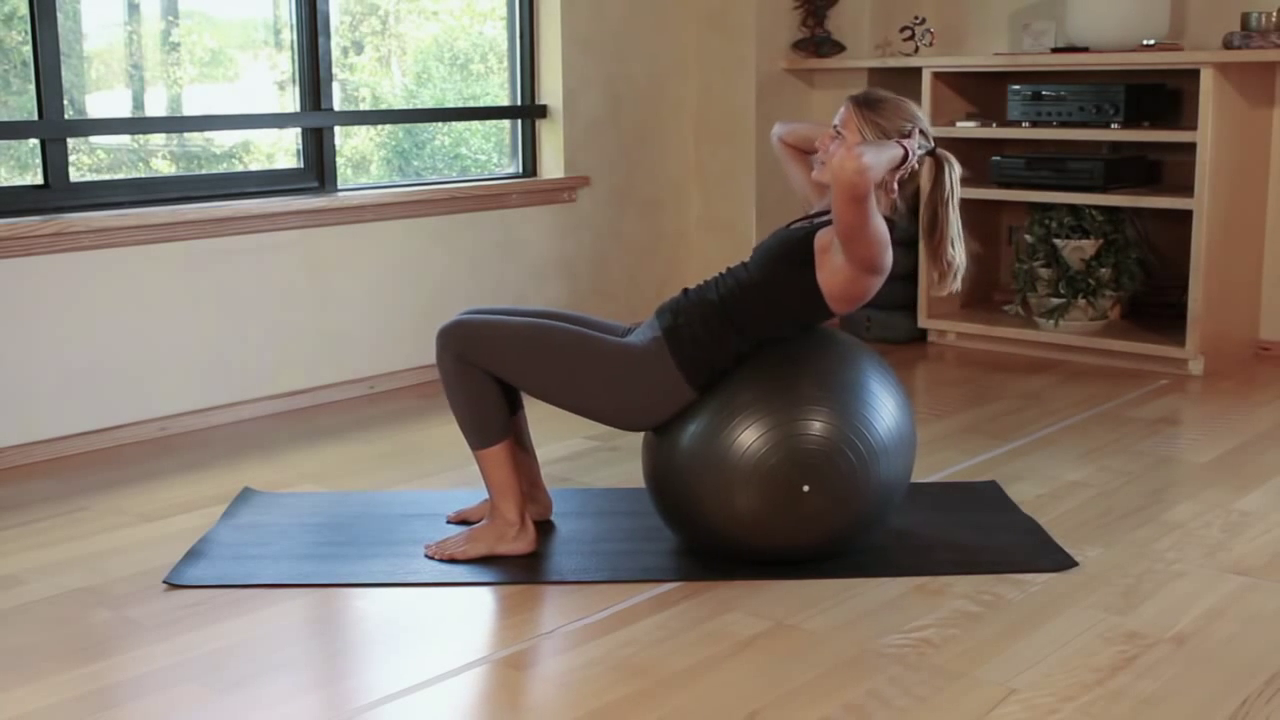yogaball: (632, 324, 927, 563)
